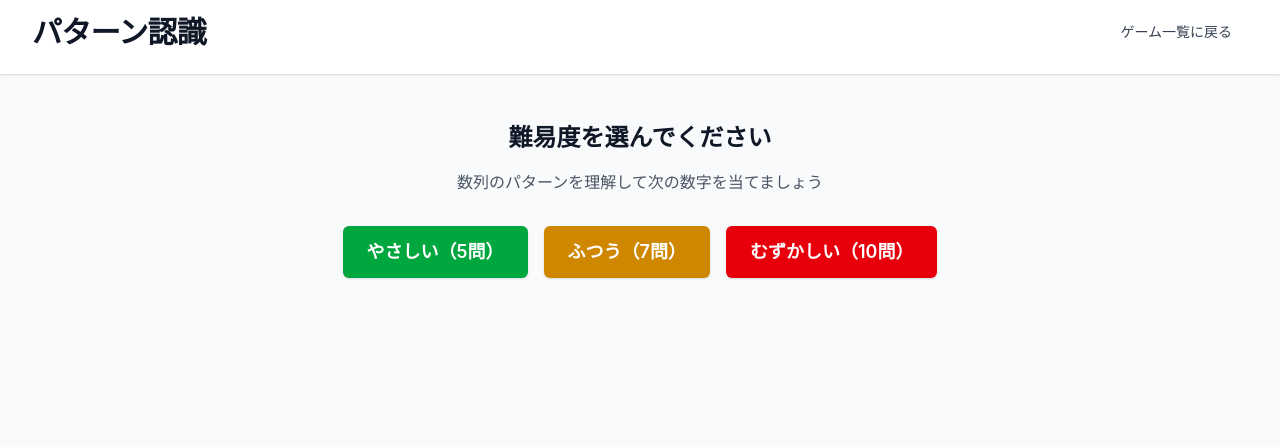
Test: PatternGame › should start game with normal difficulty
Click the button "ふつう（7問）".
click(627, 252)  # box [544,226,710,278]
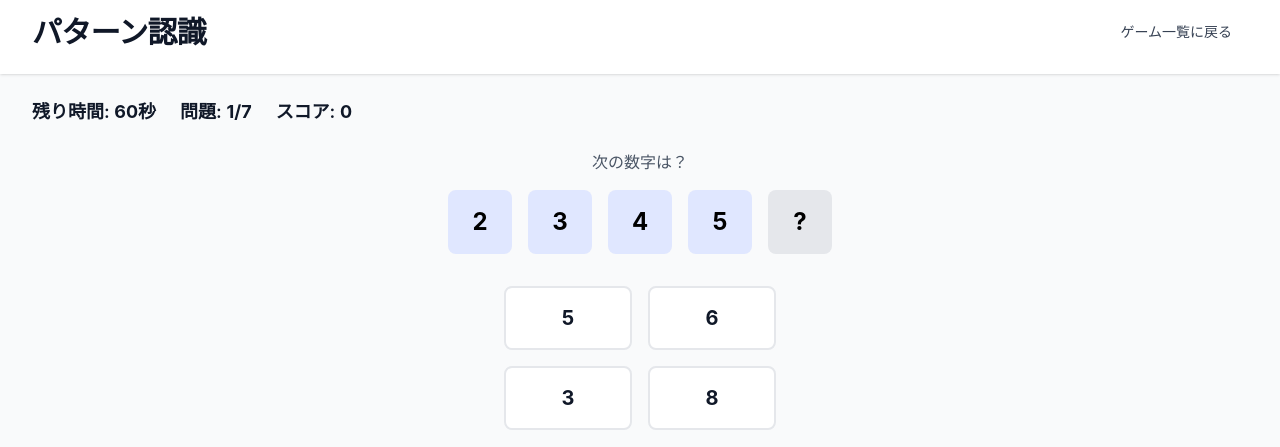
Check: the text "次の数字は？" is shown, box [592,150,688,174]
